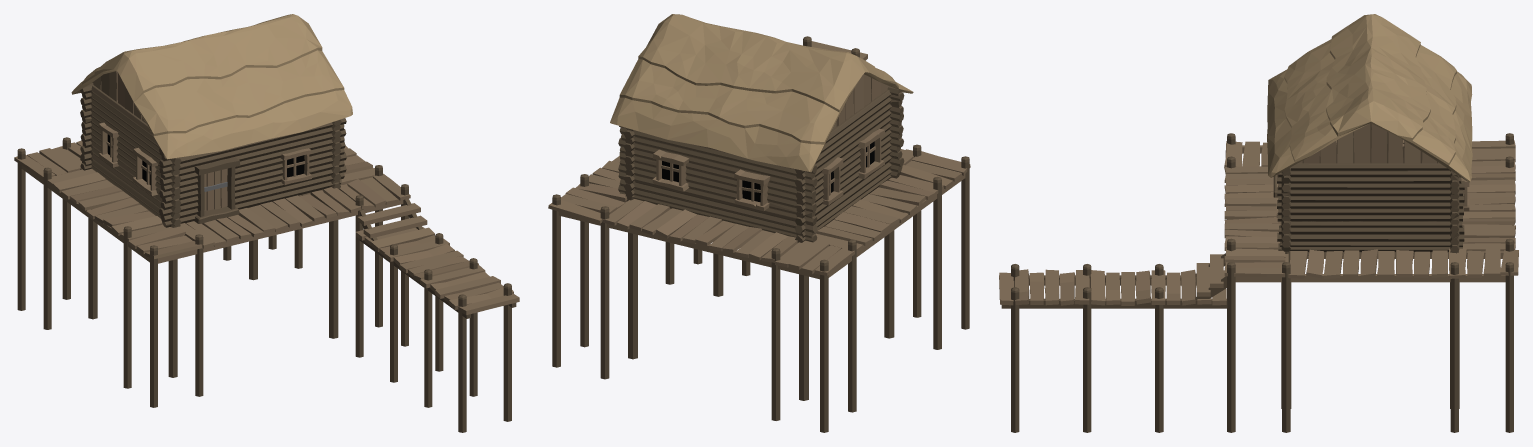
Rendered from village_house_dock.FBX.
The picture shows the model from 3 angles, left to right: view 1: azimuth 30°, elevation 25°; view 2: azimuth 150°, elevation 25°; view 3: azimuth 270°, elevation 25°; orthographic projection. The views are drawn at different scales.
Visible parts, largest first — view 1: village_house_dock; view 2: village_house_dock; view 3: village_house_dock.
Part boxes in pixels (left/top/right/bottom): village_house_dock: left=14, top=14, right=519, bottom=432; village_house_dock: left=548, top=14, right=970, bottom=432; village_house_dock: left=999, top=14, right=1518, bottom=432.
Size of the model in its own units: 11.41 by 12.2 by 18.5.
